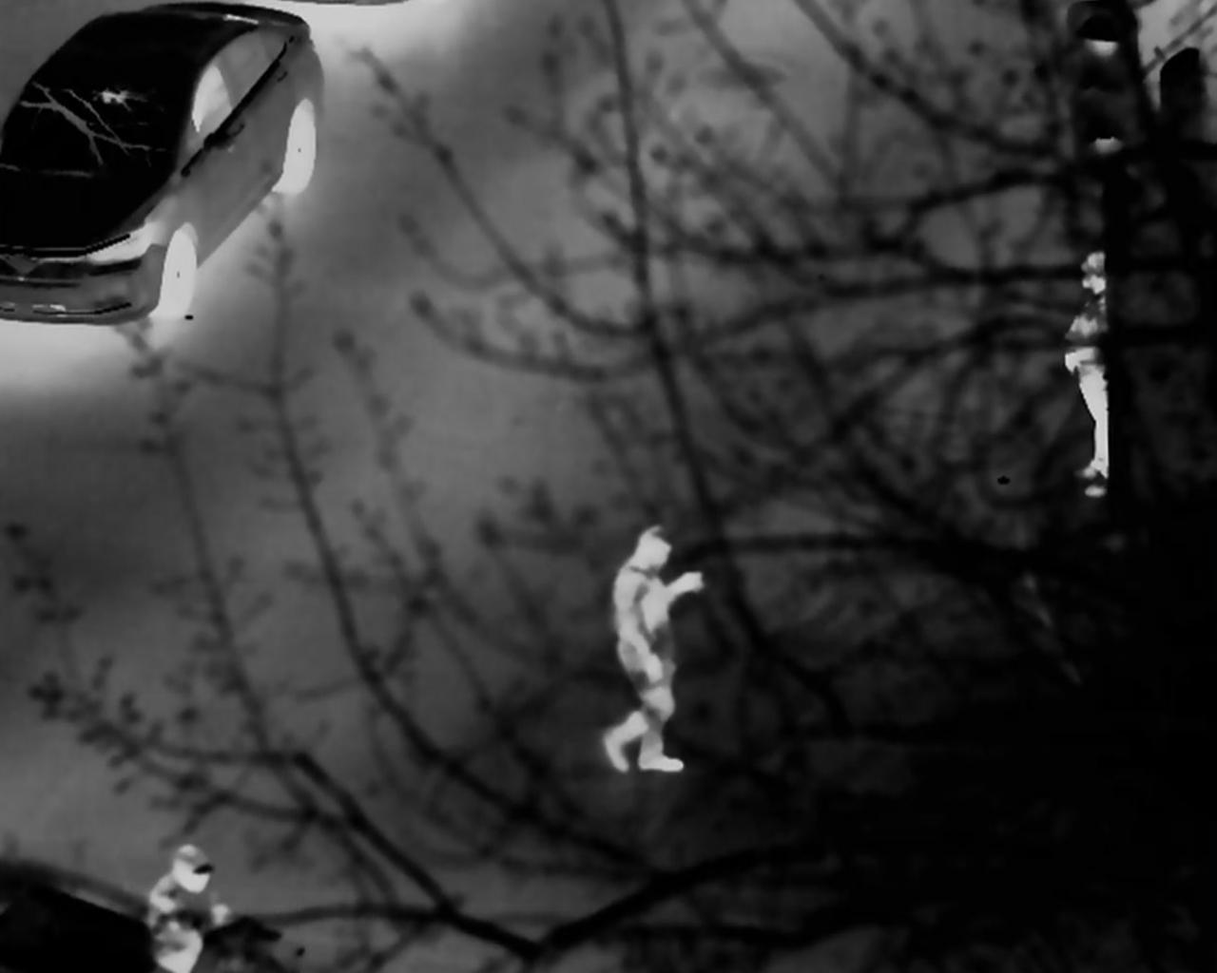person: (605, 521, 714, 773), (1066, 244, 1125, 499), (147, 849, 263, 973)
